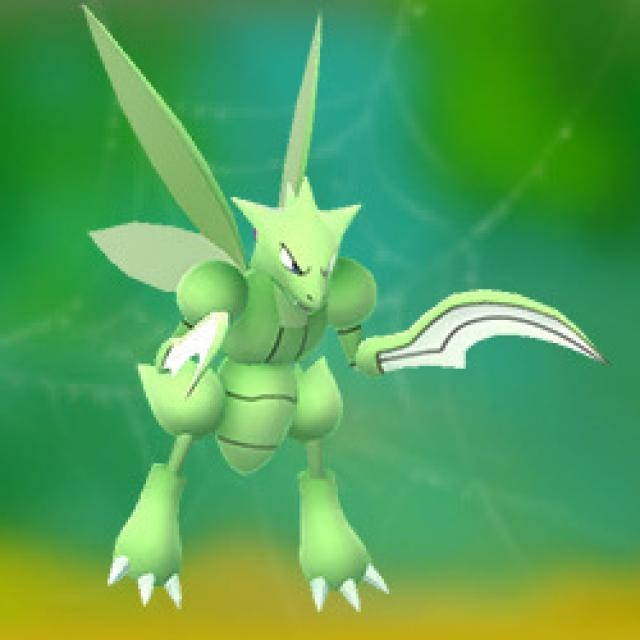Scyther: (89, 166, 388, 604)
